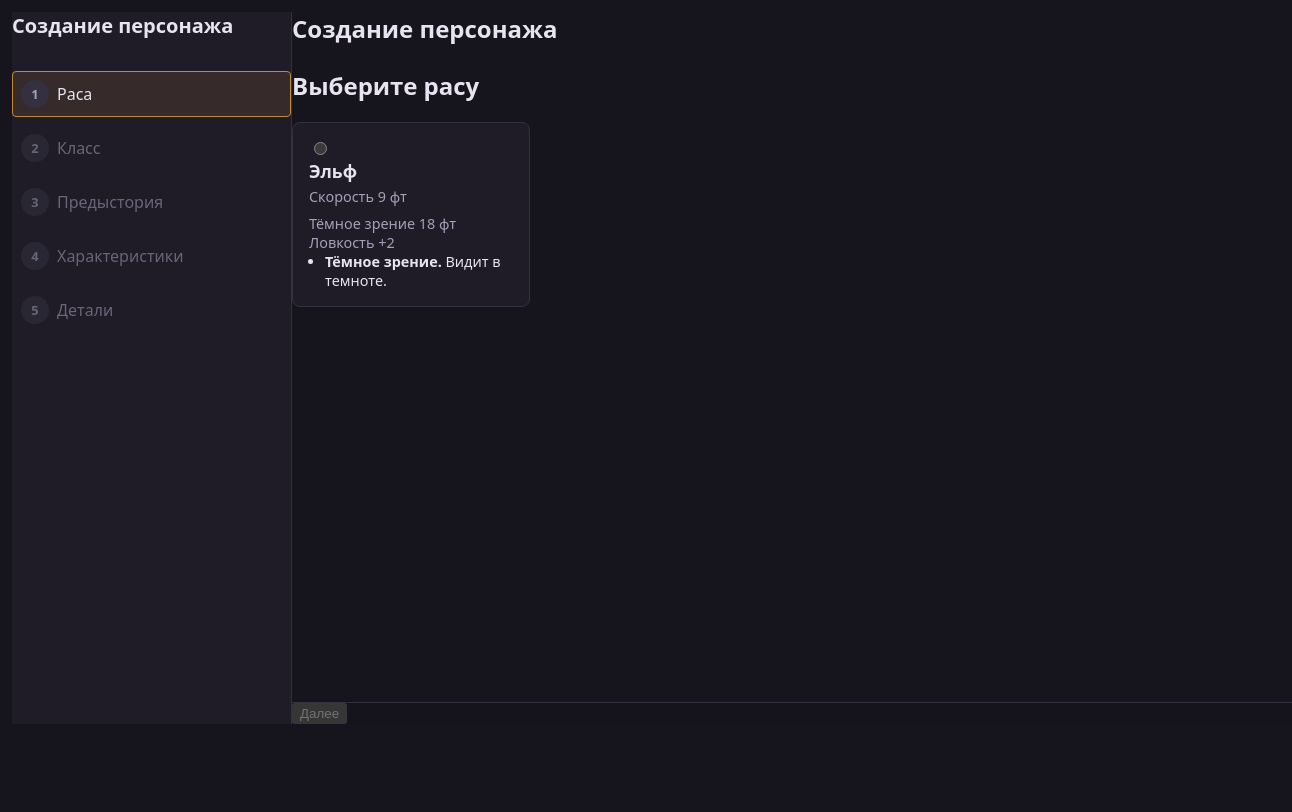
Test: CharacterWizardPage › keeps "Далее" disabled on the race step until a race is selected
The width and height of the screenshot is (1292, 812).
expect the button "Далее" is disabled: met, box [292,703,347,724]
Click the radio button at x=320, y=148, box [314,142,327,155]
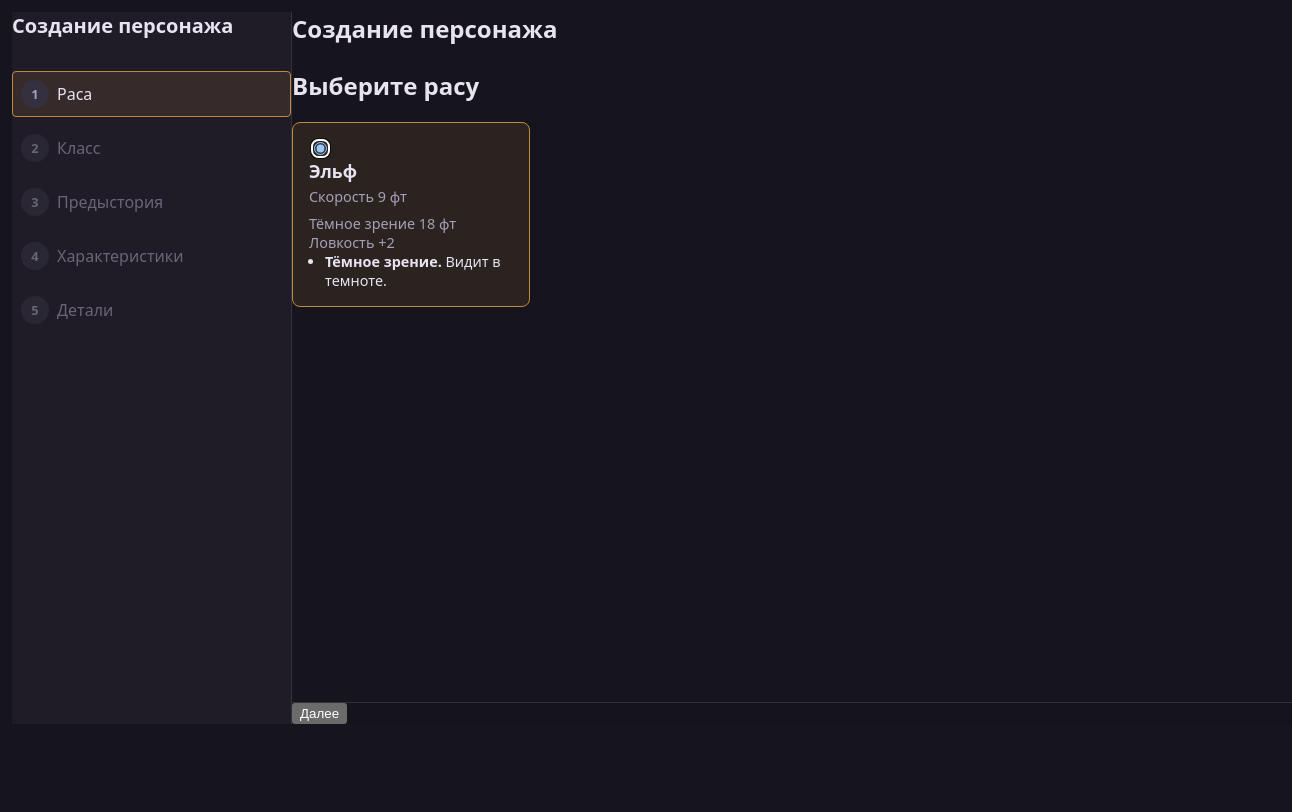
expect the button "Далее" is enabled: met, box [292,703,347,724]
